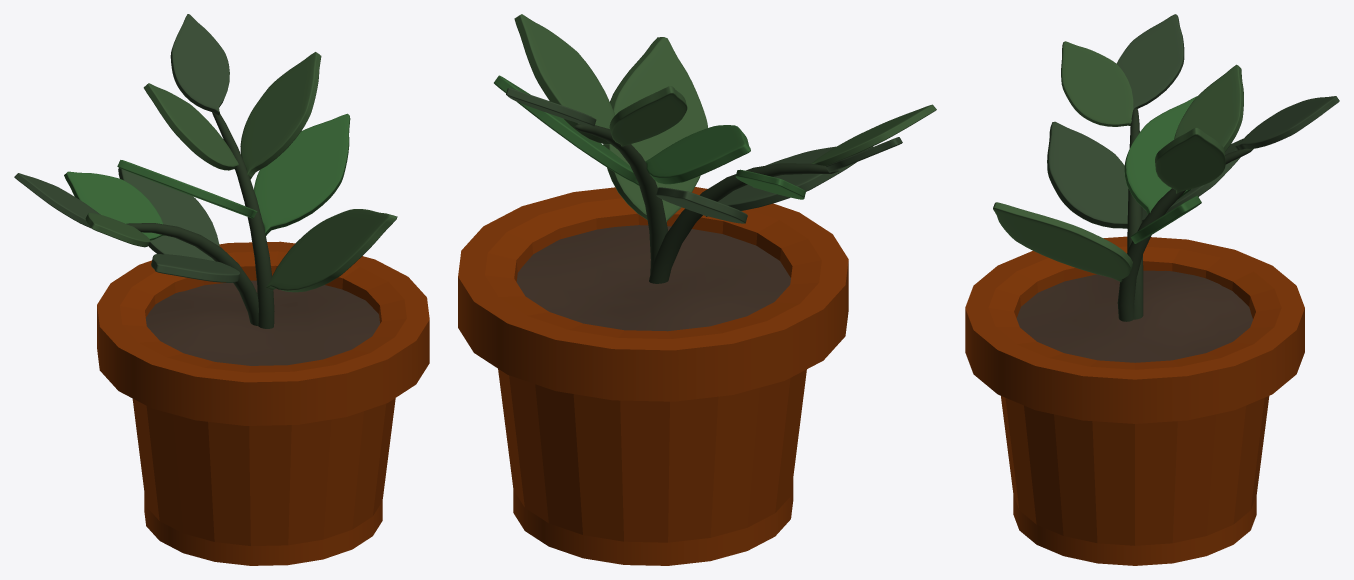
File: Plant_2.fbx
The picture shows the model from 3 angles, left to right: view 1: azimuth 30°, elevation 25°; view 2: azimuth 150°, elevation 25°; view 3: azimuth 270°, elevation 25°; orthographic projection. The views are drawn at different scales.
Parts seen in each view (by area): view 1: pCylinder1, pDisc1, pCube4, pCube6, pCube3, pCube1, pCube8, pCube9, pCube2, pTorus2, pTorus1, pCube7 (+3 smaller); view 2: pCylinder1, pDisc1, pCube6, pCube3, pCube5, pTorus1, pCube2, pTorus2, pCube7, pCube4, pCube11, pCube8 (+3 smaller); view 3: pCylinder1, pDisc1, pCube7, pCube6, pCube11, pCube10, pCube5, pCube2, pCube3, pCube1, pTorus2, pTorus1 (+2 smaller).
Boxes of the visible parts, x1,y1,x2,y2 form: pCylinder1: [97, 241, 429, 565]; pDisc1: [145, 280, 379, 365]; pCube4: [254, 113, 350, 235]; pCube6: [266, 209, 397, 292]; pCube3: [240, 52, 321, 179]; pCube1: [170, 14, 229, 115]; pCube8: [118, 168, 219, 261]; pCube9: [64, 171, 164, 240]; pCube2: [143, 83, 238, 170]; pTorus2: [212, 112, 274, 328]; pTorus1: [126, 223, 258, 325]; pCube7: [151, 254, 239, 282]; pCylinder1: [458, 187, 848, 565]; pDisc1: [516, 225, 790, 331]; pCube6: [603, 37, 707, 222]; pCube3: [514, 14, 614, 144]; pCube5: [645, 125, 750, 184]; pTorus1: [649, 163, 839, 283]; pCube2: [609, 86, 687, 146]; pTorus2: [574, 124, 667, 273]; pCube7: [706, 146, 873, 216]; pCube4: [494, 75, 639, 185]; pCube11: [811, 104, 936, 165]; pCube8: [656, 187, 747, 223]; pCylinder1: [965, 236, 1304, 565]; pDisc1: [1016, 270, 1252, 362]; pCube7: [1047, 121, 1128, 228]; pCube6: [993, 202, 1132, 281]; pCube11: [1061, 41, 1133, 126]; pCube10: [1116, 14, 1184, 109]; pCube5: [1124, 96, 1197, 214]; pCube2: [1174, 64, 1243, 151]; pCube3: [1155, 127, 1225, 193]; pCube1: [1235, 96, 1339, 150]; pTorus2: [1117, 148, 1253, 321]; pTorus1: [1127, 108, 1143, 319].
Bounding box in the file's own units: 3.6 × 3.9 × 3.08.
